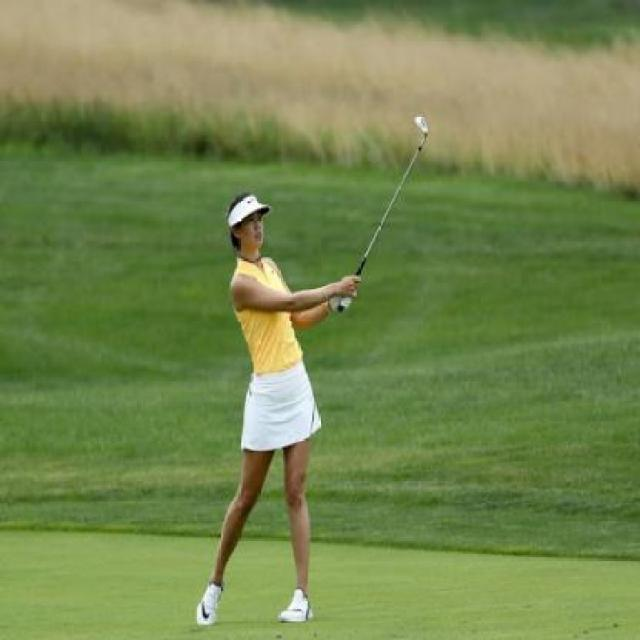club head: (412, 113, 431, 142)
